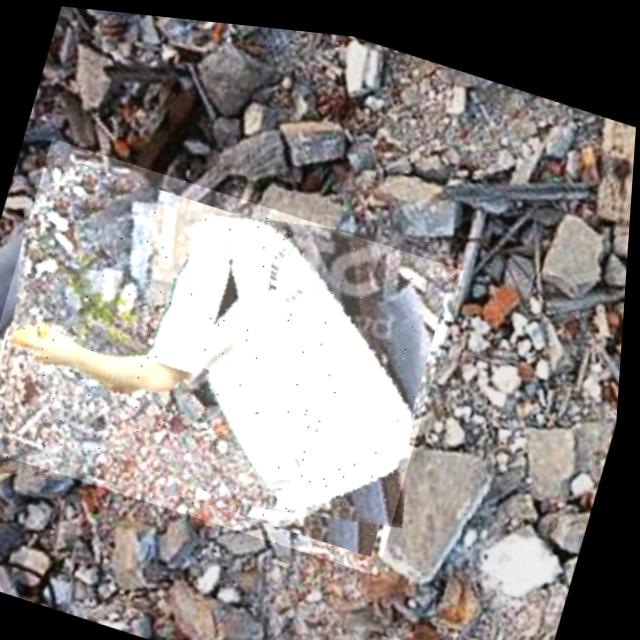Person in Rubble: (0, 132, 471, 572)
